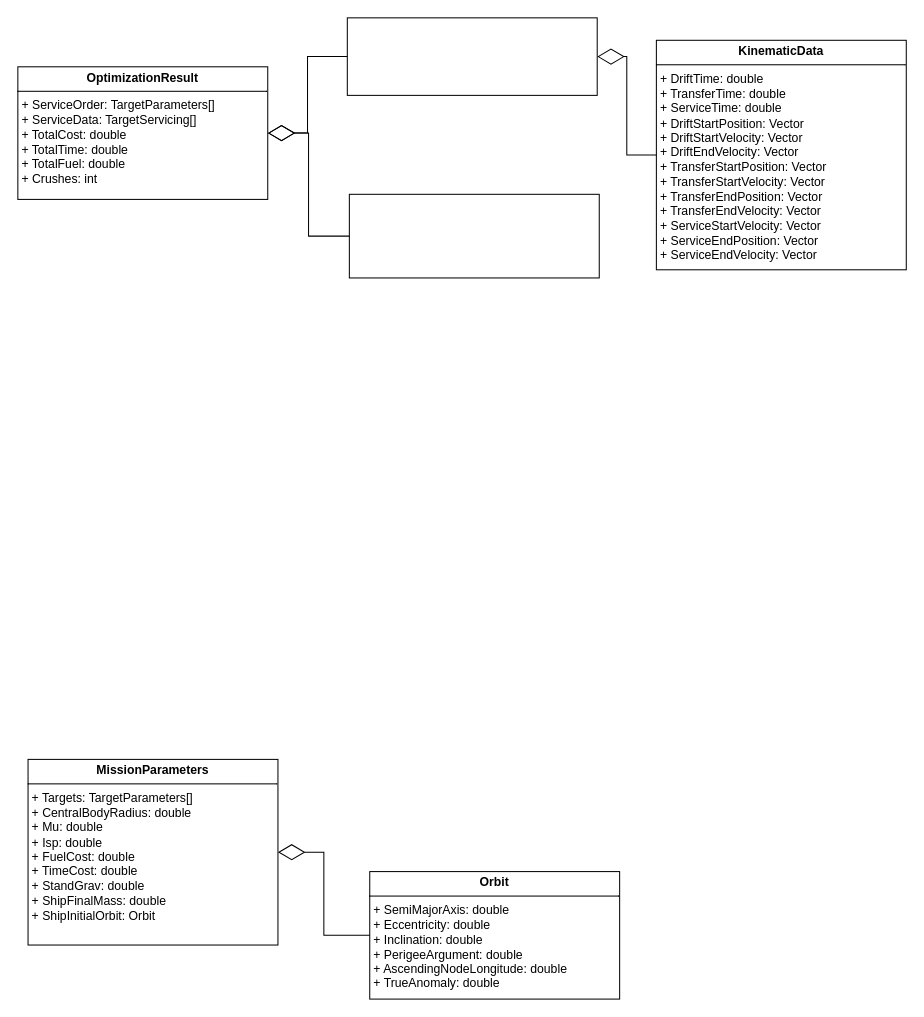
Some shapes in this 924 by 1017 pixel diagram are drawn without their labels. The shapes that lost their labels are listed below. From the top down, each one's centre as x and y in pixels, then its label:
the point at 471,56: TargetServicing + FuelMass: double + Kinematics: KinematicData
the point at 473,235: TargetParameters + TargetName: string + Orbit: Orbit + ServiceTime: double
